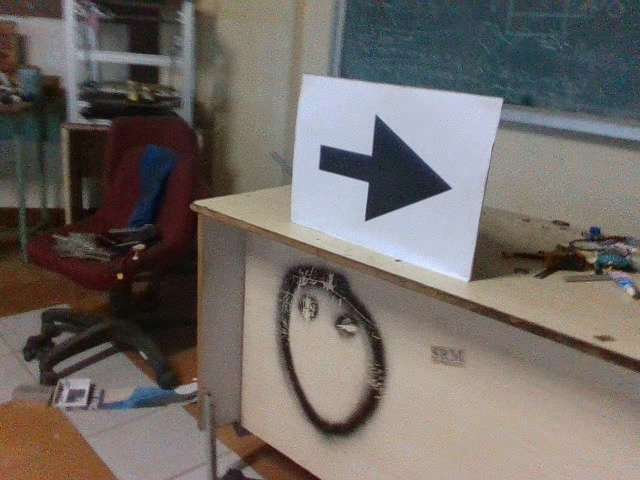Right: (310, 108, 456, 232)
